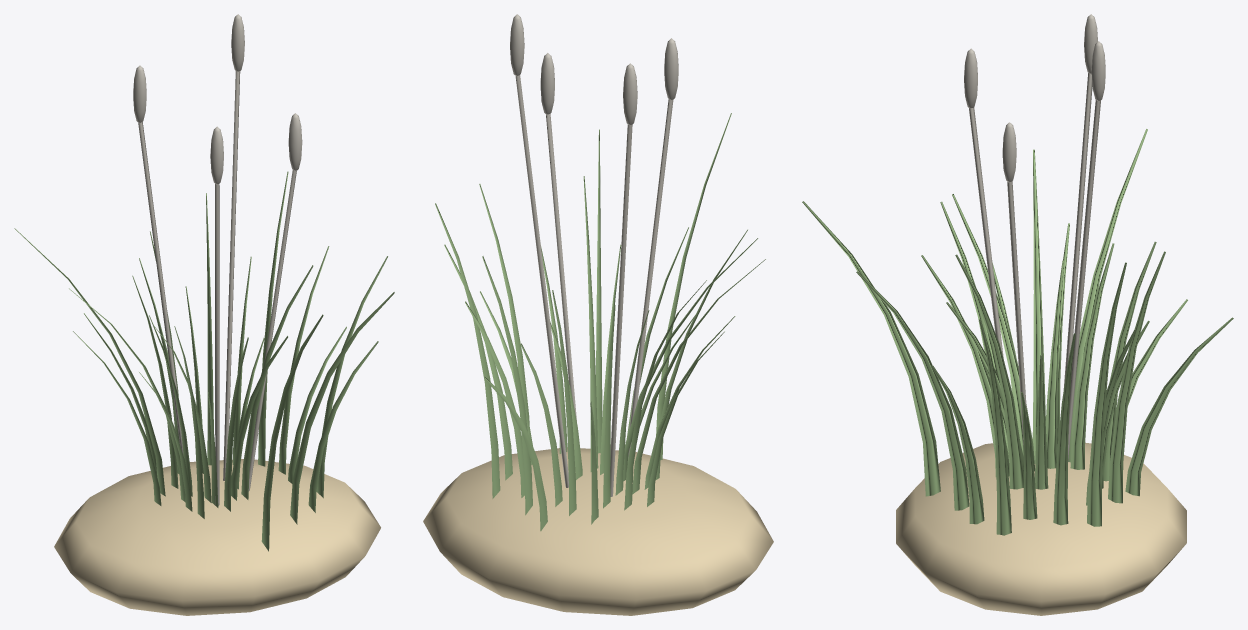
File: beach-surf-and-paddle-kit-dune-grass-tuft-ae12b134.glb
3 renders of one model, left to right at view 1: azimuth 30°, elevation 25°; view 2: azimuth 150°, elevation 25°; view 3: azimuth 270°, elevation 25°, orthographic. The views are drawn at different scales.
Visible parts, largest first — view 1: dune-grass-tuft-sand, dune-grass-tuft-grass, dune-grass-tuft-drift; view 2: dune-grass-tuft-sand, dune-grass-tuft-grass, dune-grass-tuft-drift; view 3: dune-grass-tuft-grass, dune-grass-tuft-sand, dune-grass-tuft-drift.
Part boxes in pixels (<box>): dune-grass-tuft-sand: <box>54,459,380,615</box>; dune-grass-tuft-grass: <box>14,171,394,551</box>; dune-grass-tuft-drift: <box>133,14,302,506</box>; dune-grass-tuft-sand: <box>423,447,773,615</box>; dune-grass-tuft-grass: <box>435,113,765,531</box>; dune-grass-tuft-drift: <box>510,14,678,496</box>; dune-grass-tuft-grass: <box>802,129,1233,535</box>; dune-grass-tuft-sand: <box>896,442,1186,615</box>; dune-grass-tuft-drift: <box>964,14,1105,461</box>.
Bounding box in the file's own units: 0.5298 × 0.91 × 0.6366.
